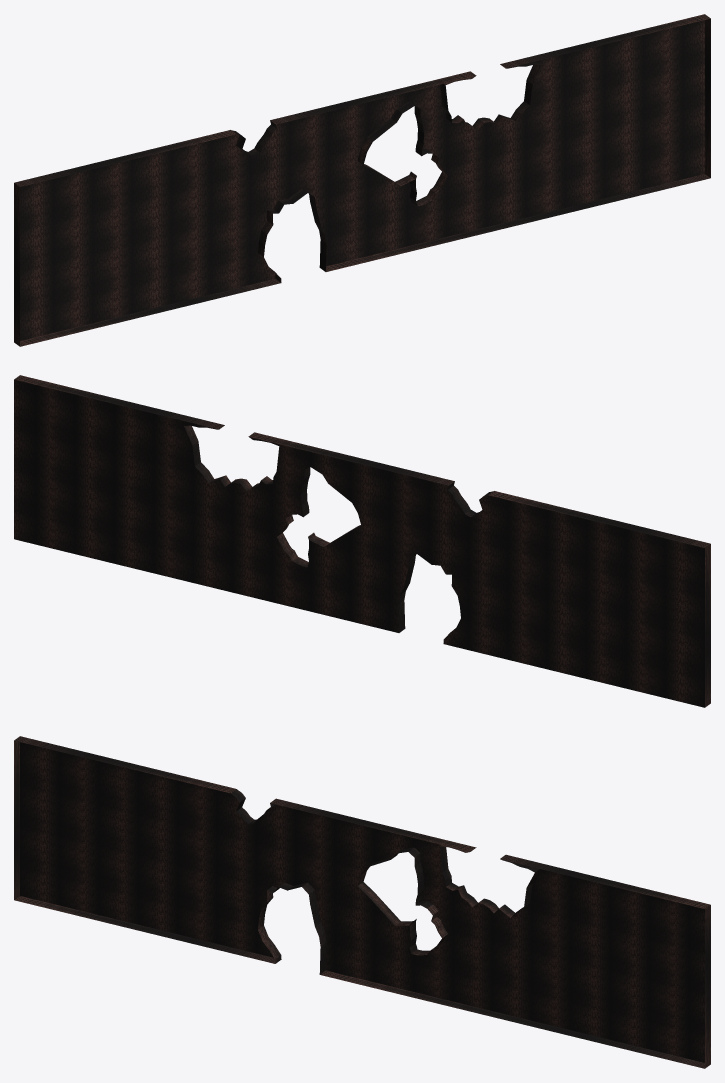
File: Room6-BG2.fbx
3 views of the same model, one above another, from view 1: azimuth 30°, elevation 25°; view 2: azimuth 150°, elevation 25°; view 3: azimuth 330°, elevation 25° (orthographic).
Visible parts, largest first — view 1: pPlane10; view 2: pPlane10; view 3: pPlane10.
Part boxes in pixels (x1,y1,x2,y2): pPlane10: [14, 14, 710, 346]; pPlane10: [14, 375, 710, 707]; pPlane10: [14, 736, 710, 1068].
Size of the model in its own units: 48.37 by 10.68 by 0.7388.
